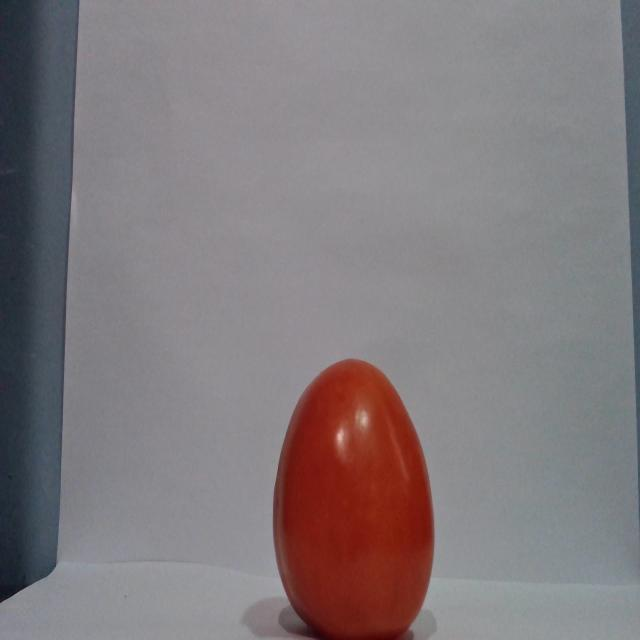Red: (271, 356, 435, 638)
